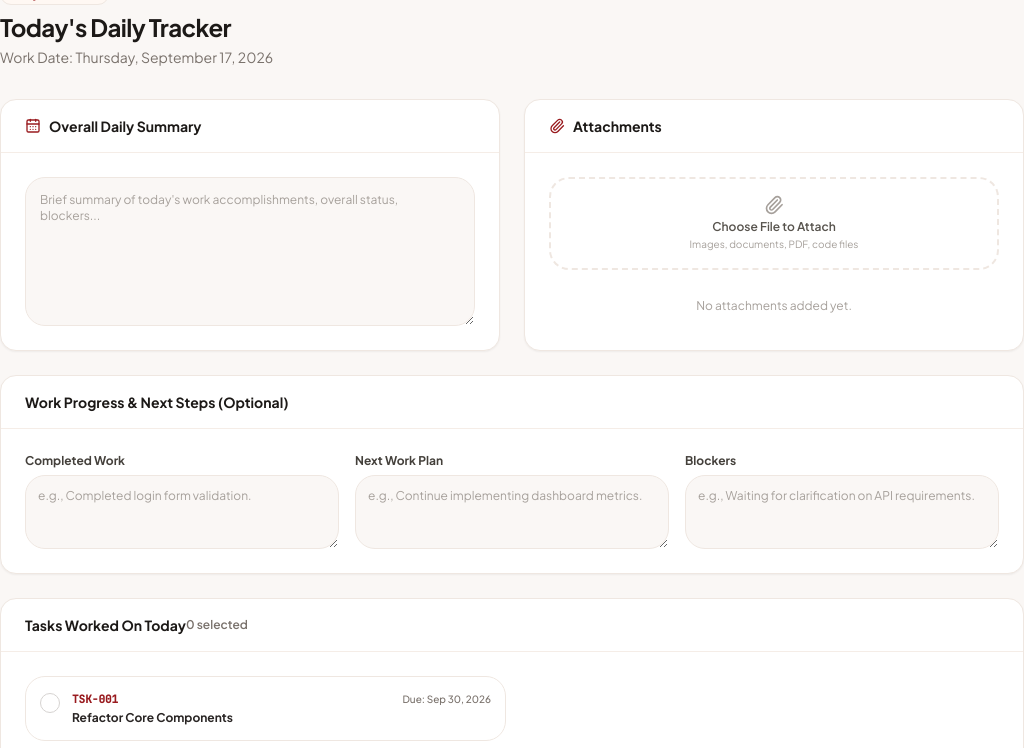
Employee Workspace → Upload Daily Tracker Task Update Form › 1. Hours Spent initially displays 0
Click the button "TSK-001 Due: Sep 30, 2026 Refactor Core Components" at (95, 699), box [25,676,506,740]
(page scrolled)
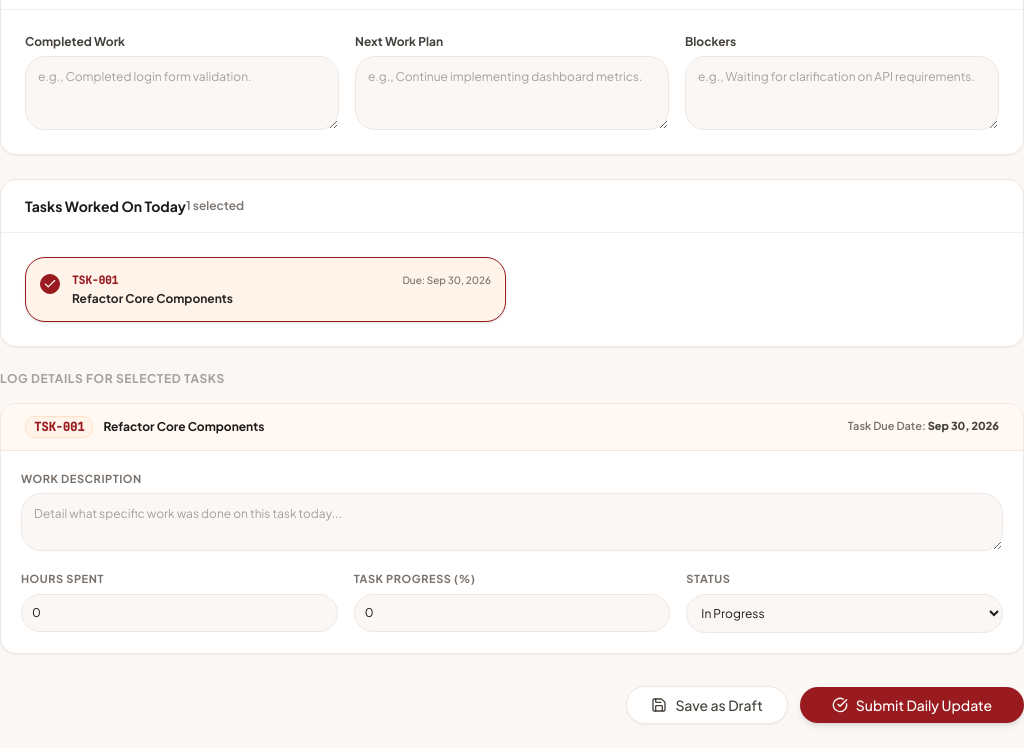
Check: the heading "LOG DETAILS FOR SELECTED TASKS" is shown, box [0,370,225,386]
Check: the number field labelled "HOURS SPENT" holds "0", box [21,594,338,632]
